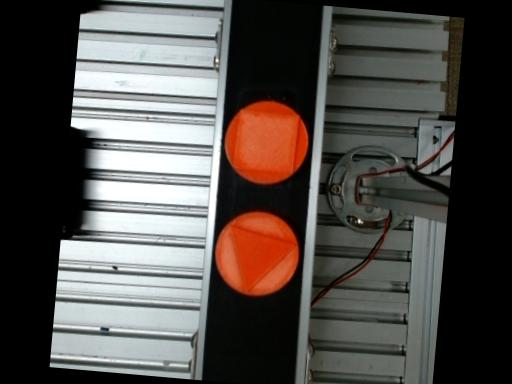Not_Square: (228, 225, 297, 293)
Orange_Waper: (223, 100, 307, 184), (214, 211, 296, 296)
Square: (233, 109, 298, 174)
